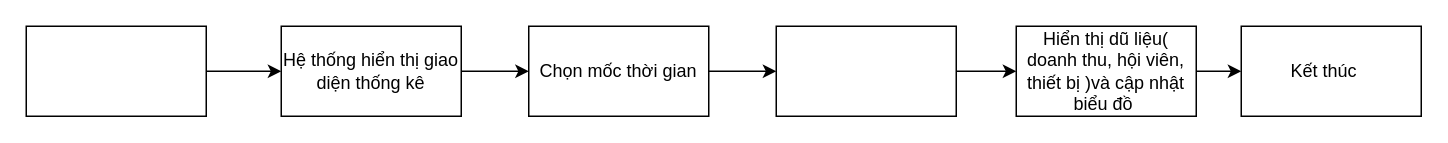
The diagram is 1448 pixels wide and 143 high, and some of its shapes have lost their labels. The shapes that lost their labels are listed below. From the top down, each one's centre as x and y in pixels, then its label:
point 115,70: Admin truy cập thống kê hệ thống
point 865,70: Hệ thống tổng hợp dữ liệu
